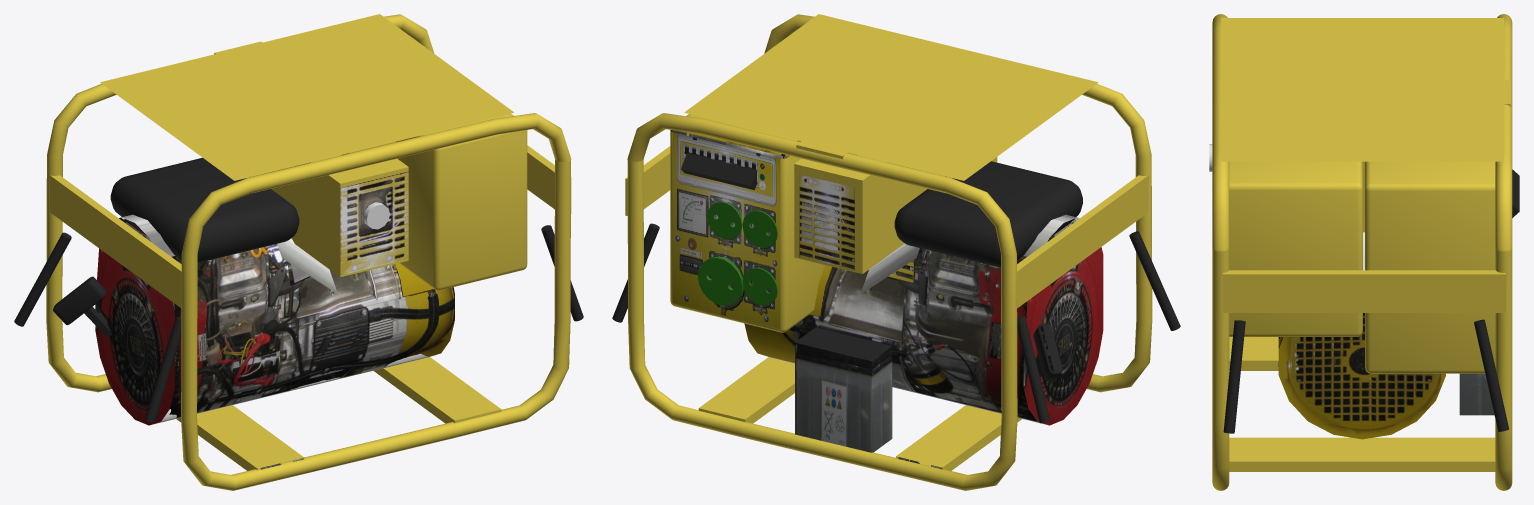
Rendered from aggregat.FBX.
The picture shows the model from 3 angles, left to right: view 1: azimuth 30°, elevation 25°; view 2: azimuth 150°, elevation 25°; view 3: azimuth 270°, elevation 25°; orthographic projection. The views are drawn at different scales.
Visible parts, largest first — view 1: Aggregat, Anlasser; view 2: Aggregat, Anschluss3, sicherungsschalter, Anlasser, Anschluss1, Anschluss2, Anschluss4; view 3: Aggregat, sicherungsschalter.
Part boxes in pixels (x1,y1,x2,y2): Aggregat: (14, 14, 583, 490); Anlasser: (53, 276, 111, 337); Aggregat: (612, 14, 1180, 490); Anschluss3: (697, 256, 743, 305); sicherungsschalter: (681, 142, 756, 190); Anlasser: (1033, 323, 1062, 381); Anschluss1: (707, 201, 742, 239); Anschluss2: (742, 210, 777, 247); Anschluss4: (742, 267, 777, 305); Aggregat: (1212, 14, 1512, 490); sicherungsschalter: (1512, 169, 1519, 217).
Bounding box in the file's own units: 93.72 × 63.39 × 54.86.
Materials: 1 (1 with a texture image).
